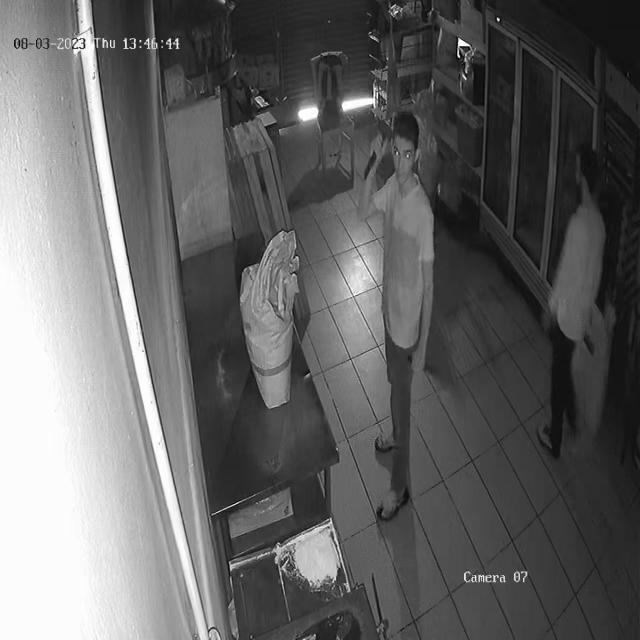Knife: (359, 138, 388, 195)
